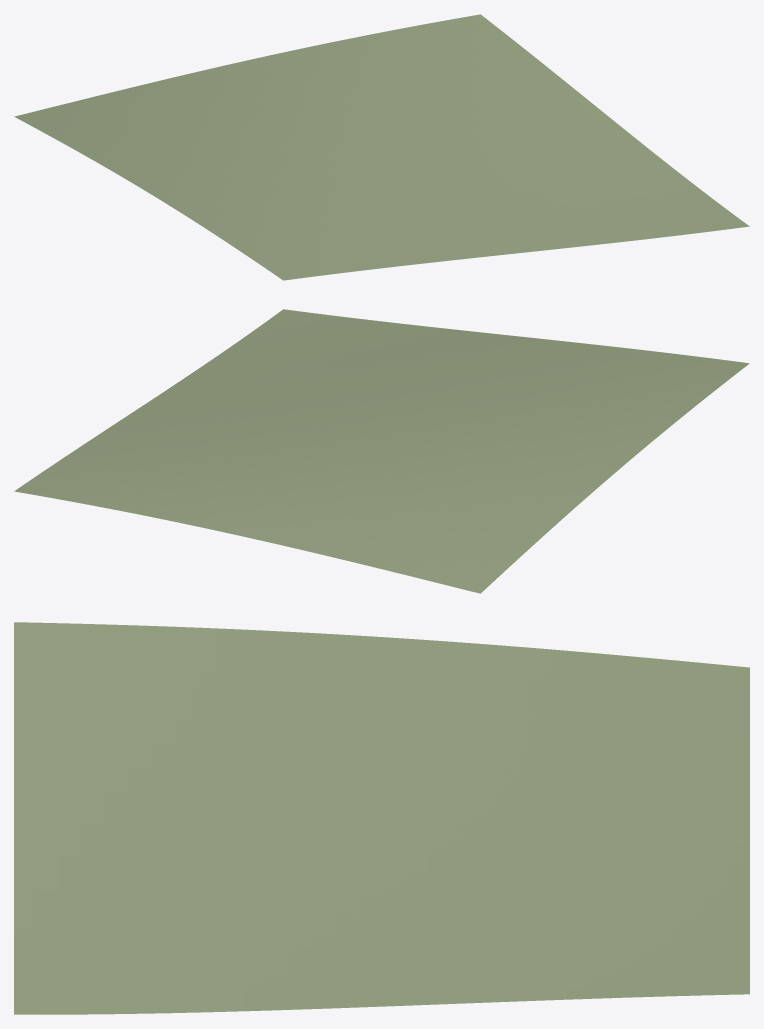
File: alpine-14-3.glb
3 renders of one model, top to bottom at view 1: azimuth 30°, elevation 25°; view 2: azimuth 150°, elevation 25°; view 3: azimuth 270°, elevation 25°, orthographic. The views are drawn at different scales.
Visible parts, largest first — view 1: alpine-14-3; view 2: alpine-14-3; view 3: alpine-14-3.
Boxes of the visible parts, <box> form: alpine-14-3: <box>14,14,749,280</box>; alpine-14-3: <box>14,309,749,593</box>; alpine-14-3: <box>14,622,749,1014</box>.
Bounding box in the file's own units: 256 × 31.31 × 256.
